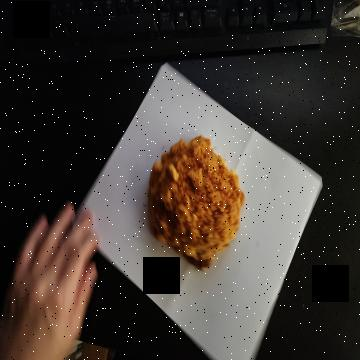soboru_bread: (147, 134, 243, 270)
